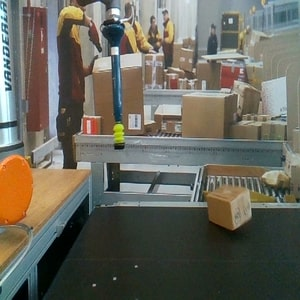box: (204, 184, 254, 232)
